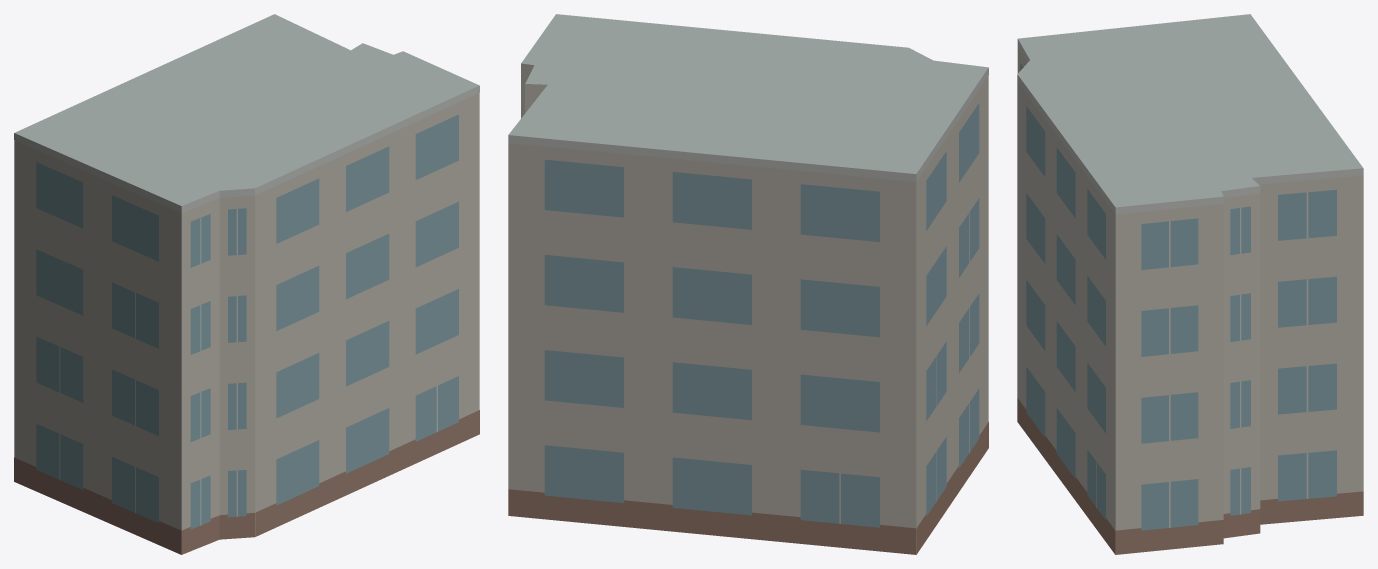
The model's file is survey-upis-32581710.glb.
3 views of the same model, side by side, from view 1: azimuth 30°, elevation 25°; view 2: azimuth 150°, elevation 25°; view 3: azimuth 270°, elevation 25° (orthographic). The views are drawn at different scales.
Visible parts, largest first — view 1: survey-upis-32581710.tmp; view 2: survey-upis-32581710.tmp; view 3: survey-upis-32581710.tmp.
Part boxes in pixels (left/top/right/bottom): survey-upis-32581710.tmp: left=14, top=14, right=479, bottom=554; survey-upis-32581710.tmp: left=508, top=14, right=988, bottom=554; survey-upis-32581710.tmp: left=1017, top=14, right=1363, bottom=554.
Size of the model in its own units: 14.09 by 11.8 by 10.66.
